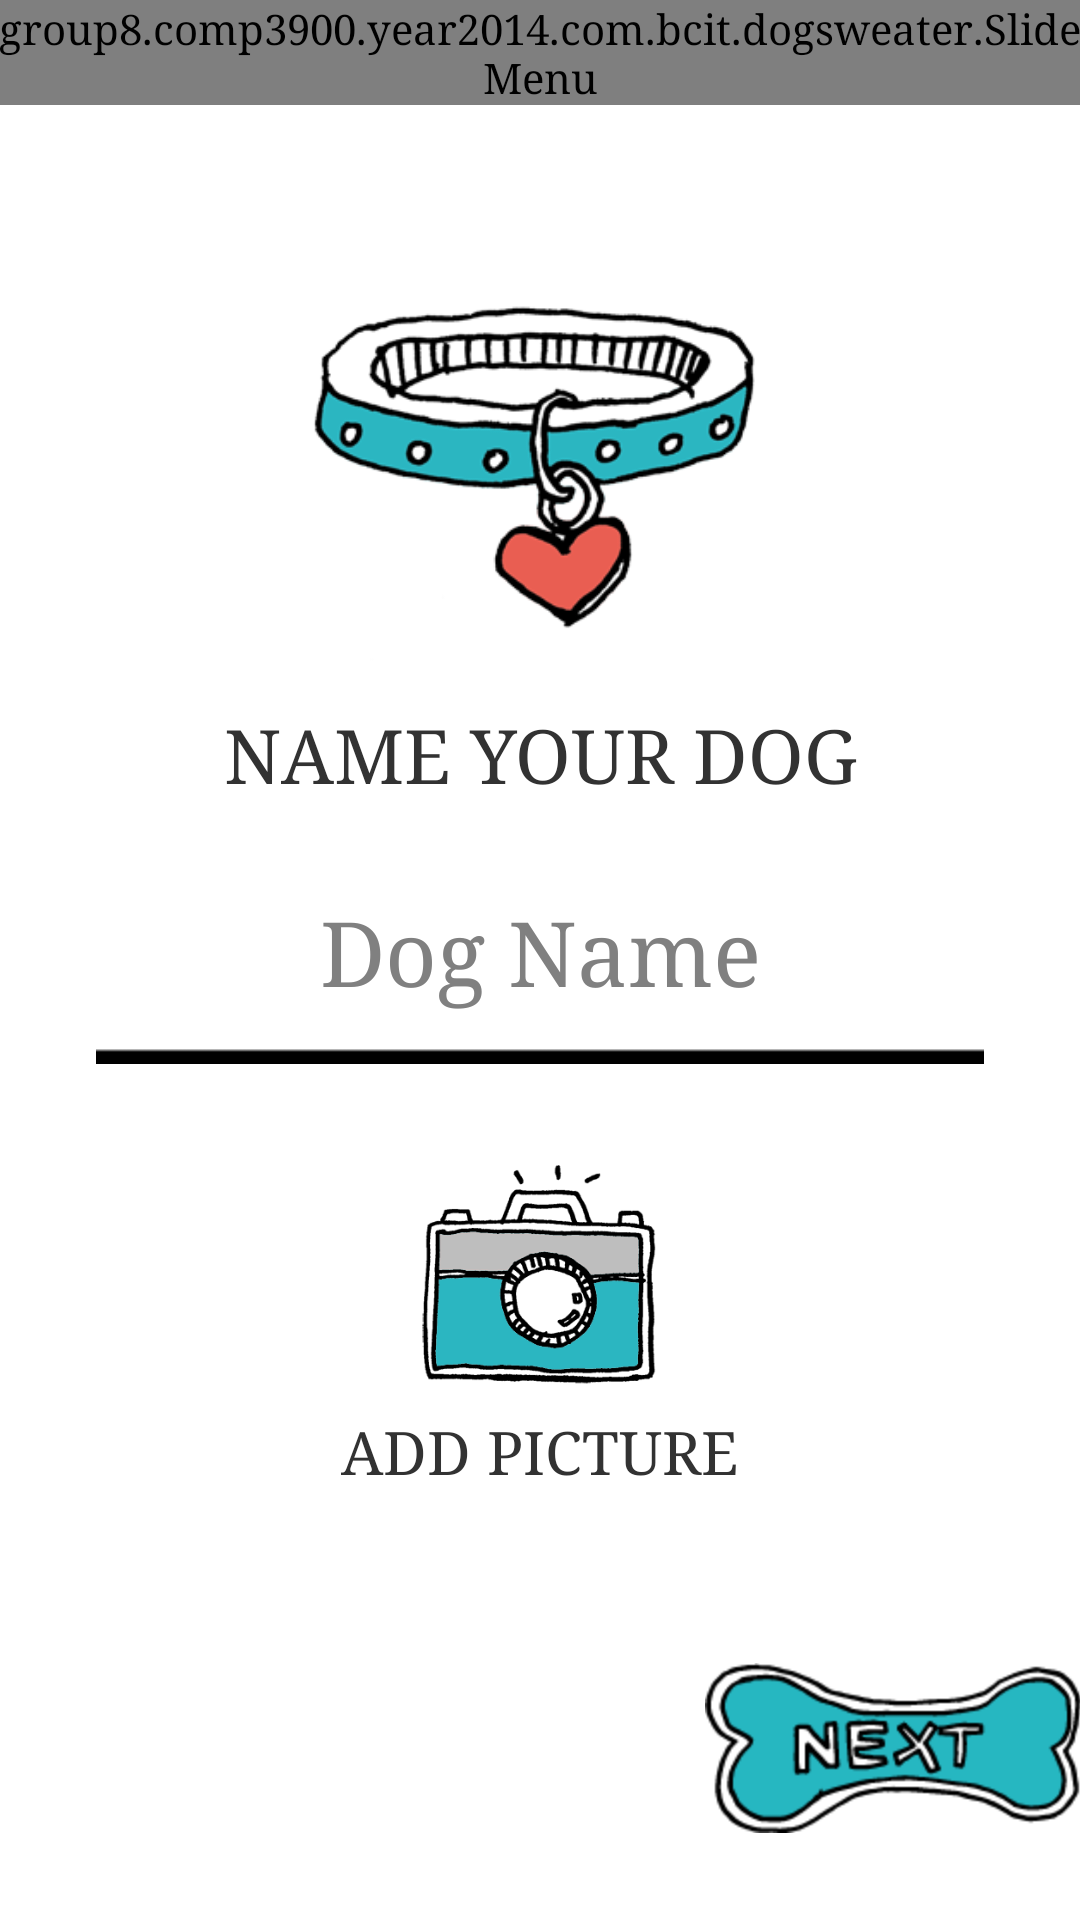

Named icons in this screenshot (1080*1920) and their centers, [x,y]:
dyi camera: [539,1274]
